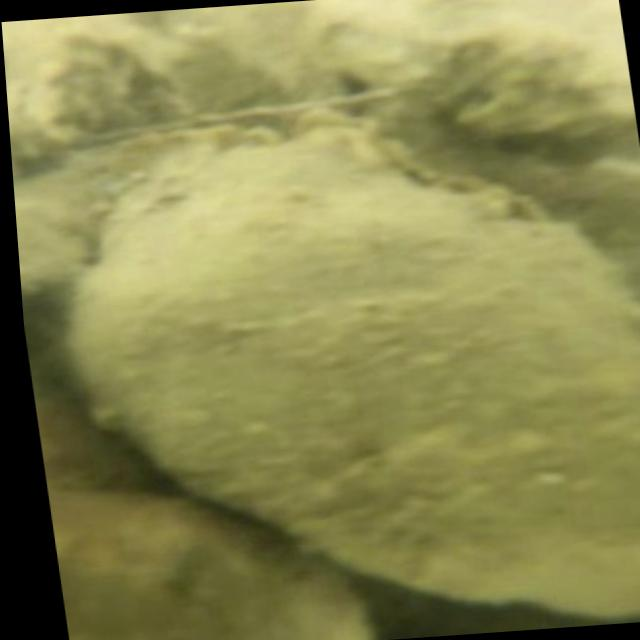Oyster-Closed: (63, 107, 640, 627)
